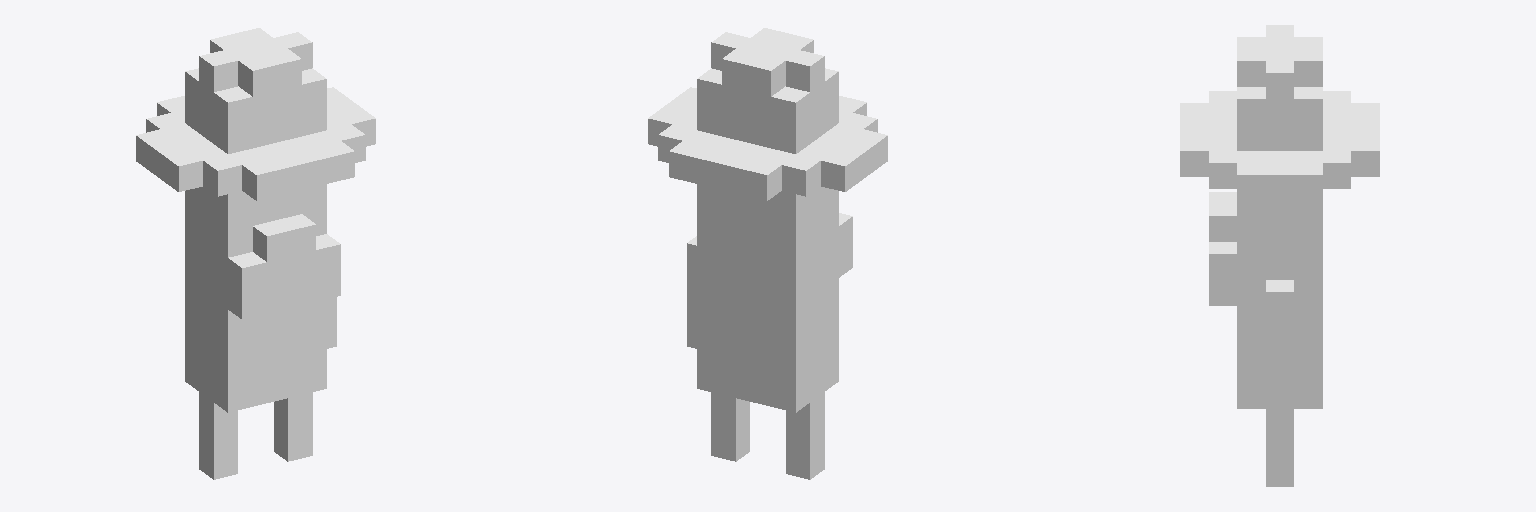
File: armless-farmer.obj
3 renders of one model, left to right at view 1: azimuth 30°, elevation 25°; view 2: azimuth 150°, elevation 25°; view 3: azimuth 270°, elevation 25°, orthographic.
Parts seen in each view (by area): view 1: object 1; view 2: object 1; view 3: object 1.
Boxes of the visible parts, x1,y1,x2,y2 form: object 1: [136, 28, 375, 479]; object 1: [648, 28, 887, 479]; object 1: [1180, 25, 1379, 486].
Bounding box in the file's own units: 0.8 × 1.6 × 0.7.